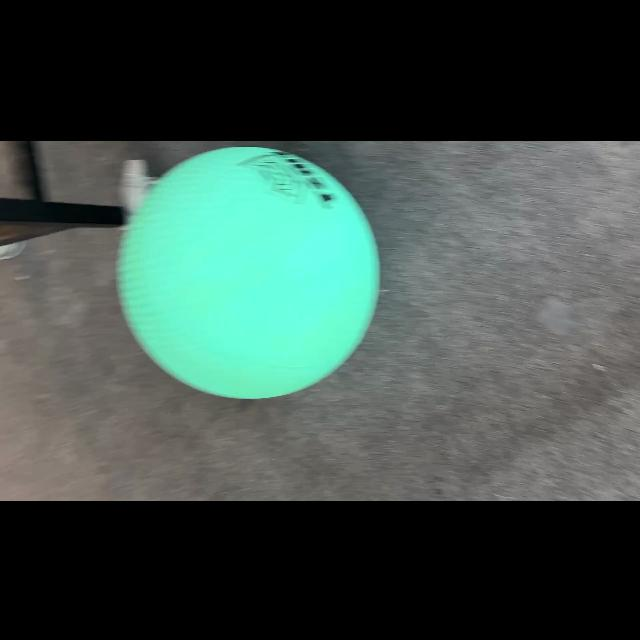ALGAE: (115, 145, 381, 399)
